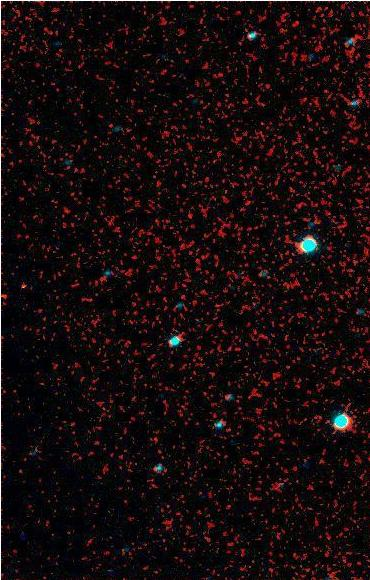star: (0, 287, 23, 317)
